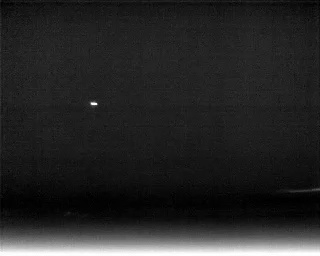AIRPLANE: (89, 99, 99, 108)
